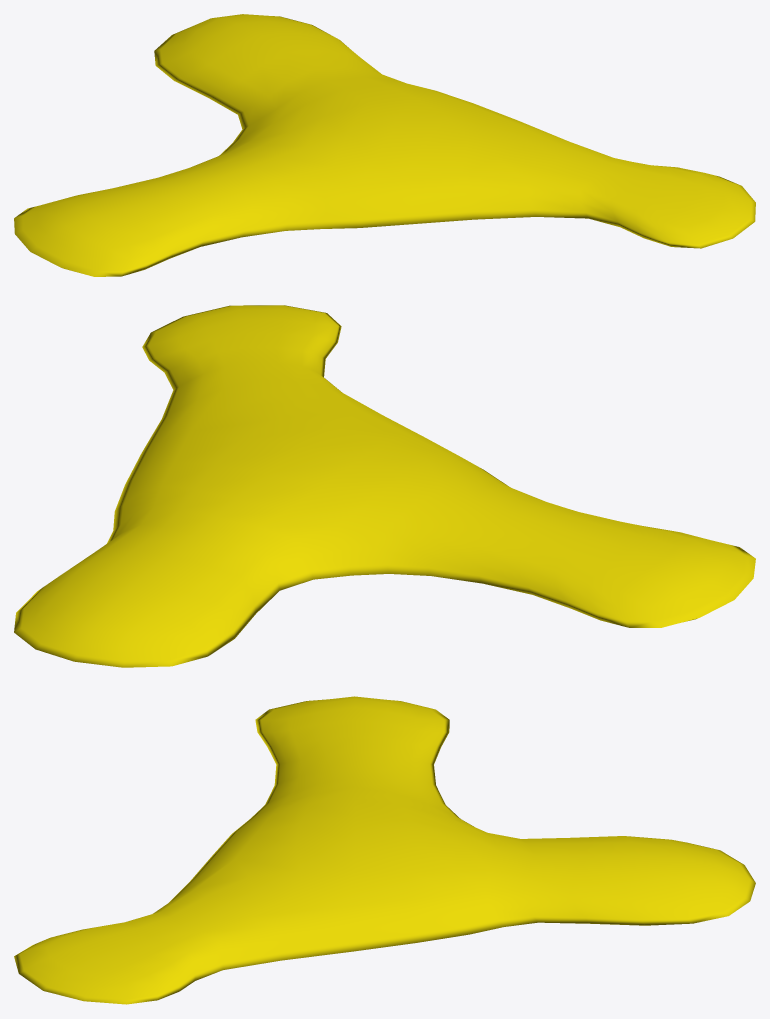
Rendered from Ketchup_Blob_01.fbx.
3 views of the same model, one above another, from view 1: azimuth 30°, elevation 25°; view 2: azimuth 150°, elevation 25°; view 3: azimuth 270°, elevation 25° (orthographic). The views are drawn at different scales.
Parts seen in each view (by area): view 1: Ketchup_Blob_01; view 2: Ketchup_Blob_01; view 3: Ketchup_Blob_01.
Part boxes in pixels (box(x1,y1,x2,y2)): Ketchup_Blob_01: box(14, 14, 755, 276); Ketchup_Blob_01: box(14, 305, 755, 667); Ketchup_Blob_01: box(14, 696, 755, 1004).
Size of the model in its own units: 37.18 by 2.53 by 38.06.
